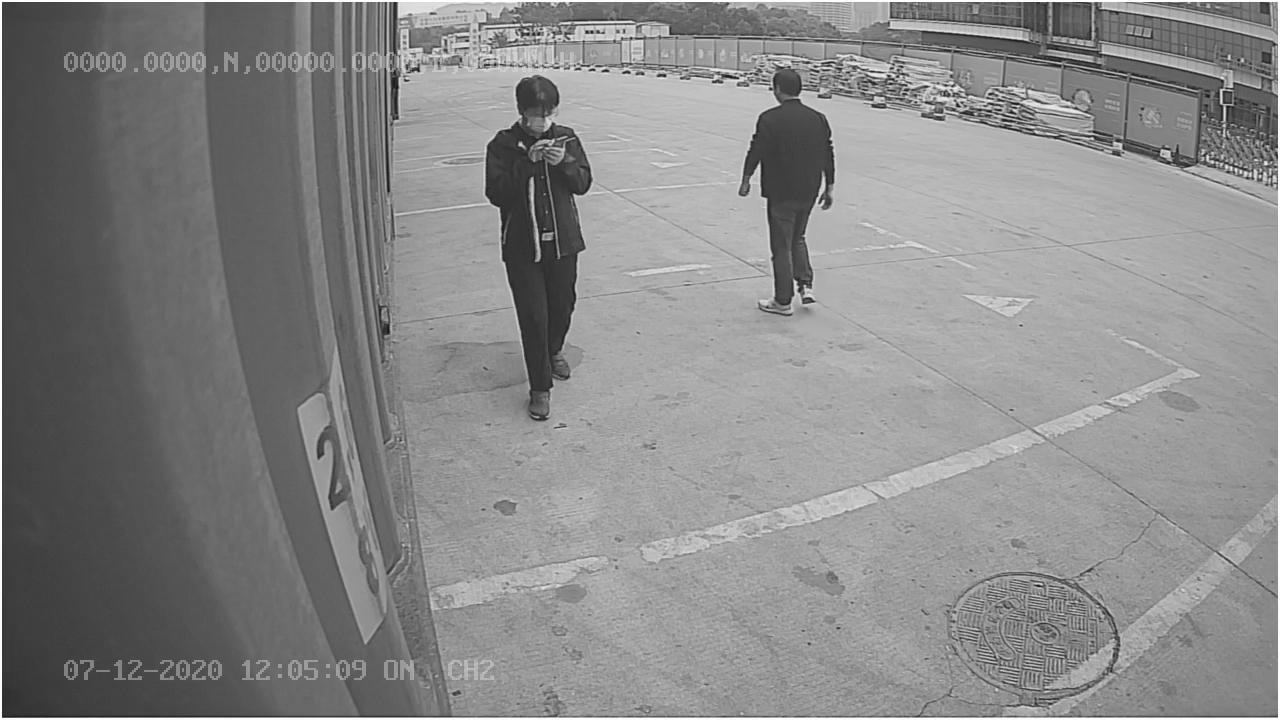person: (478, 71, 598, 422), (730, 62, 839, 321)
